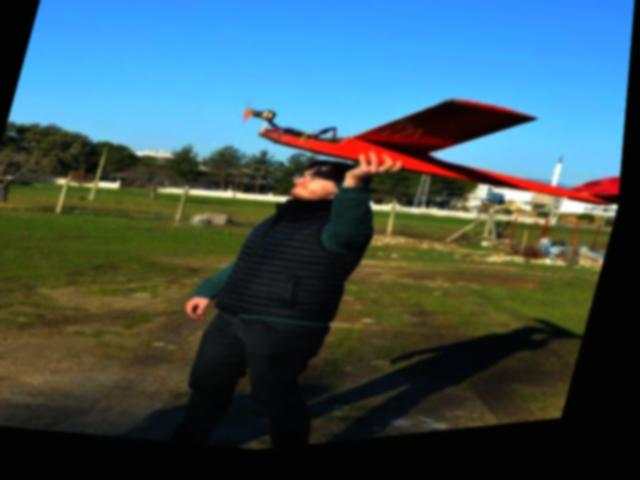iha: (216, 51, 633, 254)
